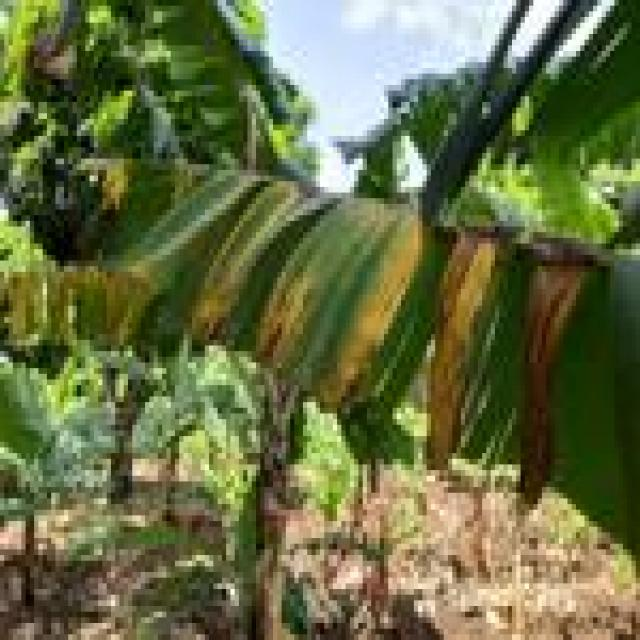Early_rust: (0, 65, 629, 545)
